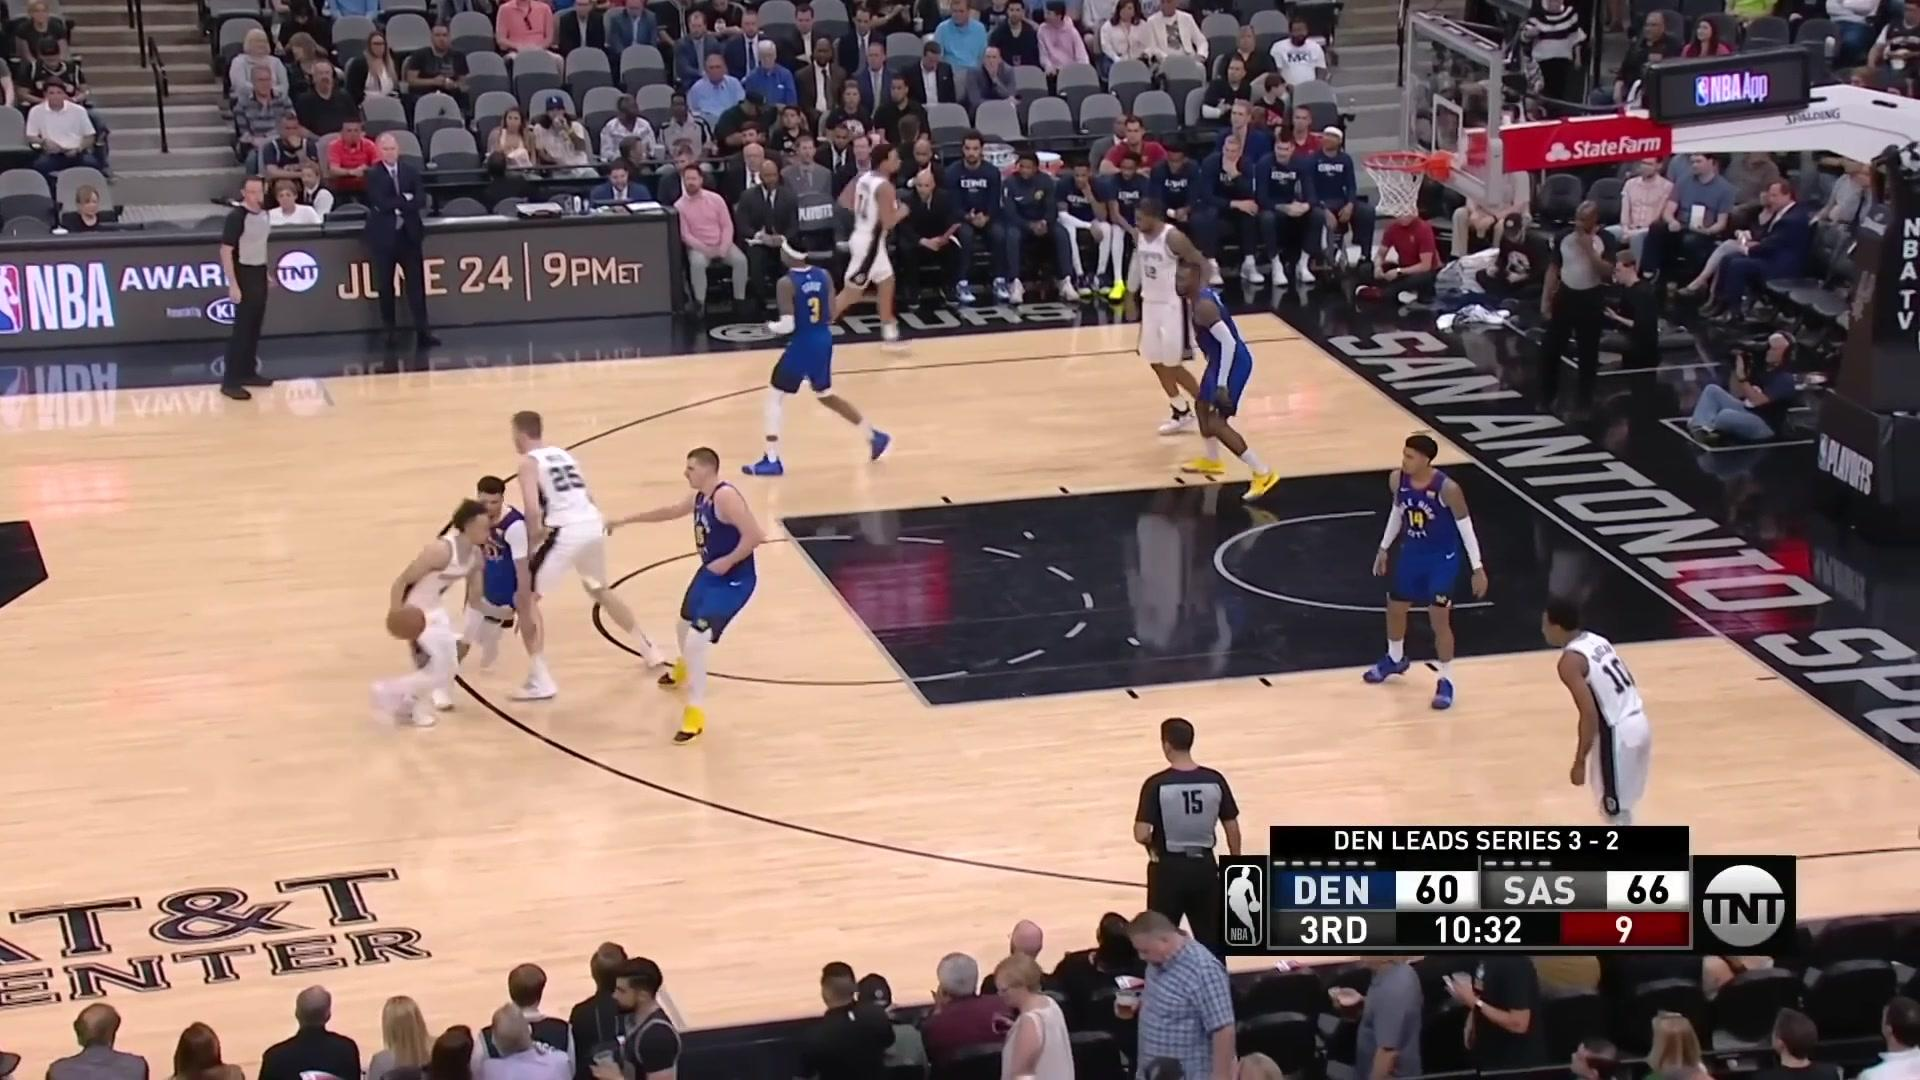no_foul: (356, 430, 620, 723)
